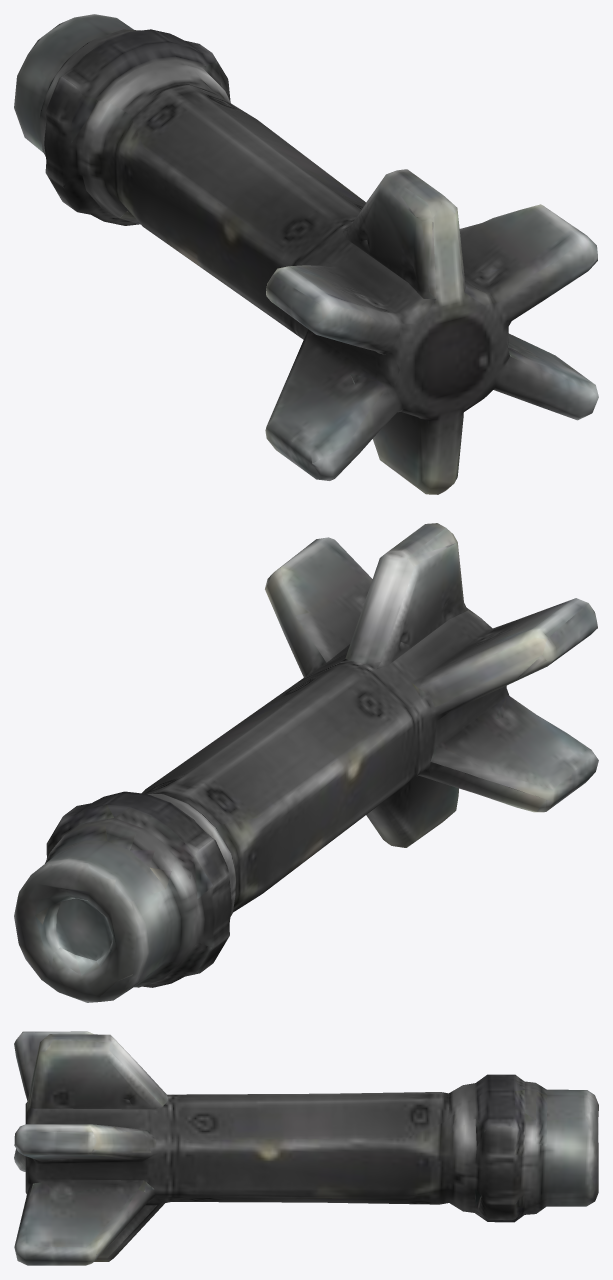
3 views of the same model, one above another, from view 1: azimuth 30°, elevation 25°; view 2: azimuth 150°, elevation 25°; view 3: azimuth 270°, elevation 25° (orthographic). The views are drawn at different scales.
Visible parts, largest first — view 1: body; view 2: body; view 3: body.
Part boxes in pixels (left/top/right/bottom): body: left=14, top=14, right=598, bottom=494; body: left=14, top=523, right=598, bottom=1002; body: left=14, top=1031, right=598, bottom=1265.
Bounding box in the file's own units: 0.1338 × 0.131 × 0.3105.
1 material, 1 textured.
